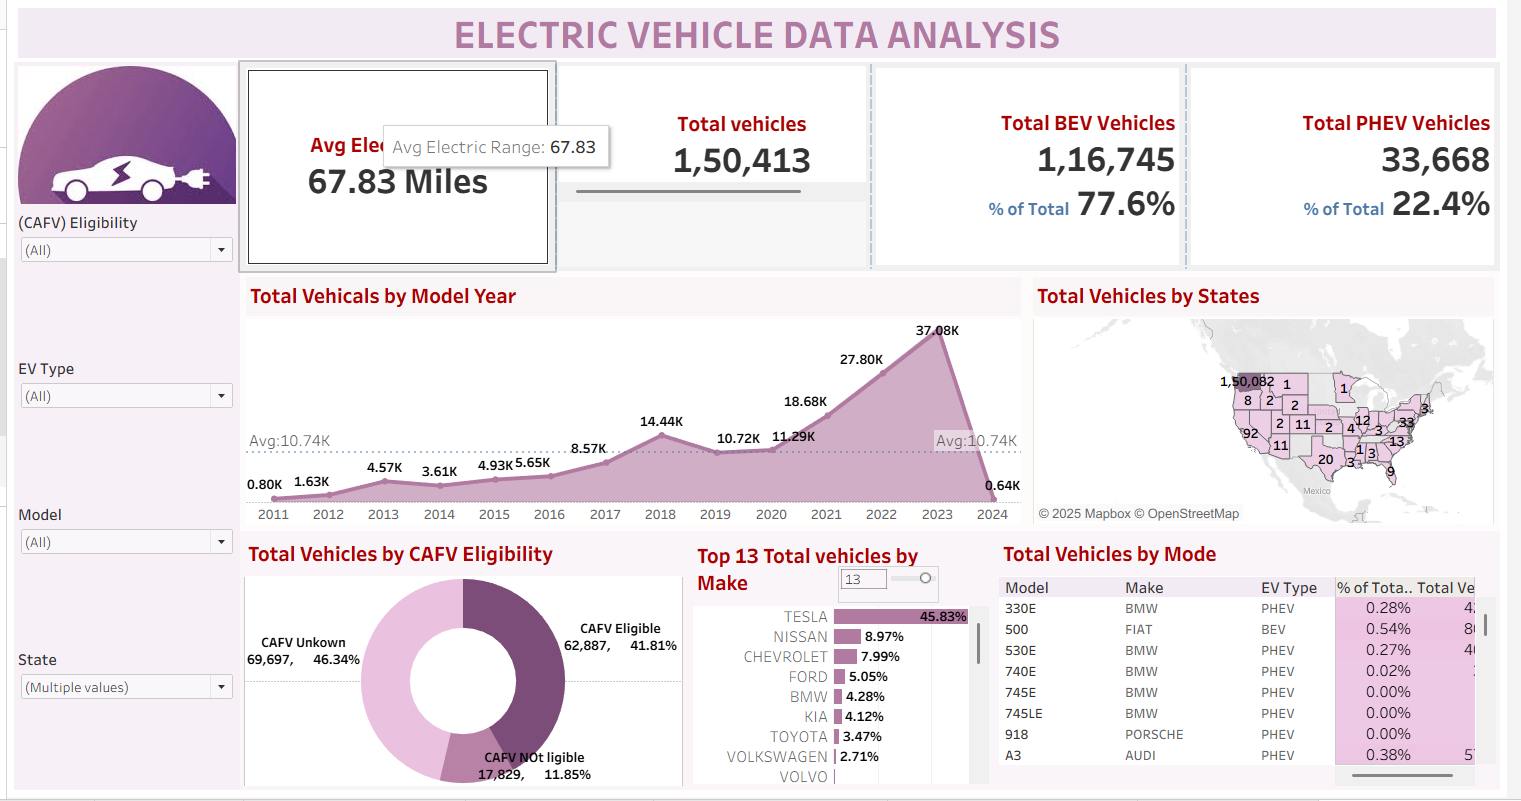

Layout of this report page (visuals, bound fields, positions):
{"tool":"tableau","page":{"name":"Electric Vehicle Data Analysis Deshboard","canvas":[1500,800],"ordinal":0},"visuals":[{"type":"title","box":[7,7,1486,58]},{"type":"image","param":"C:/Users/Neeraj/OneDrive/Desktop/Tableau project/Img.jpg","box":[7,65,226,146]},{"type":"worksheet","title":"Avg Electric Range","mark":"Automatic","box":[233,65,315,209]},{"type":"worksheet","title":"Total Vehicles","mark":"Automatic","box":[548,65,315,209]},{"type":"worksheet","title":"Total BEV Vehicles","mark":"Automatic","box":[863,65,315,209]},{"type":"worksheet","title":"Total PHEV Vehicles","mark":"Automatic","box":[1178,65,315,209]},{"type":"filter","title":"Total Vehicals by Model Year","param":"[federated.1lwrgvz0b9hpam17g65ee12r6ma9].[none:Clean Alternative Fuel Vehicle (C","box":[7,211,226,146]},{"type":"worksheet","title":"Total Vehicals by Model Year","mark":"Area","rows":["Calculation_1464569238540288","Calculation_1464569238540288"],"cols":["Model Year"],"box":[233,274.3,787,259.3]},{"type":"worksheet","title":"Total Vehicles by States","mark":"Multipolygon","box":[1020,274.3,473,259.3]},{"type":"filter","title":"Total Vehicals by Model Year","param":"[federated.1lwrgvz0b9hpam17g65ee12r6ma9].[none:Electric Vehicle Type:nk]","box":[7,357,226,146]},{"type":"filter","title":"Total Vehicals by Model Year","param":"[federated.1lwrgvz0b9hpam17g65ee12r6ma9].[none:Model:nk]","box":[7,503,226,145]},{"type":"worksheet","title":"Total Vehicles by CAFV Eligibility","mark":"Pie","rows":["Calculation_1464569267933191","Calculation_1464569267933191"],"box":[233,533.6,447,259.4]},{"type":"worksheet","title":"Top 10 Total Vehicles by Make","mark":"Automatic","rows":["Make"],"cols":["Calculation_1464569238540288"],"box":[680,533.6,308,259.4]},{"type":"worksheet","title":"Total Vehicles by Mode","mark":"Square","rows":["Model","Make","Electric Vehicle Type"],"box":[988,533.6,505,259.4]},{"type":"parameter","param":"[Parameters].[Parameter 1]","box":[831,569,101,37]},{"type":"filter","title":"Total Vehicals by Model Year","param":"[federated.1lwrgvz0b9hpam17g65ee12r6ma9].[none:State:nk]","box":[7,648,226,145]}]}

Visuals, with their boxes in screenshot pixels (x1, y1, x2, y2), scaled from the page's 1500x800 canvas onto the 1521x801 screenshot:
title: [left=7, top=7, right=1514, bottom=65]
image: [left=7, top=65, right=236, bottom=211]
"Avg Electric Range" worksheet: [left=236, top=65, right=556, bottom=274]
"Total Vehicles" worksheet: [left=556, top=65, right=875, bottom=274]
"Total BEV Vehicles" worksheet: [left=875, top=65, right=1194, bottom=274]
"Total PHEV Vehicles" worksheet: [left=1194, top=65, right=1514, bottom=274]
"Total Vehicals by Model Year" filter: [left=7, top=211, right=236, bottom=357]
"Total Vehicals by Model Year" worksheet (Area marks): [left=236, top=275, right=1034, bottom=534]
"Total Vehicles by States" worksheet (Multipolygon marks): [left=1034, top=275, right=1514, bottom=534]
"Total Vehicals by Model Year" filter: [left=7, top=357, right=236, bottom=504]
"Total Vehicals by Model Year" filter: [left=7, top=504, right=236, bottom=649]
"Total Vehicles by CAFV Eligibility" worksheet (Pie marks): [left=236, top=534, right=690, bottom=794]
"Top 10 Total Vehicles by Make" worksheet: [left=690, top=534, right=1002, bottom=794]
"Total Vehicles by Mode" worksheet (Square marks): [left=1002, top=534, right=1514, bottom=794]
parameter: [left=843, top=570, right=945, bottom=607]
"Total Vehicals by Model Year" filter: [left=7, top=649, right=236, bottom=794]
